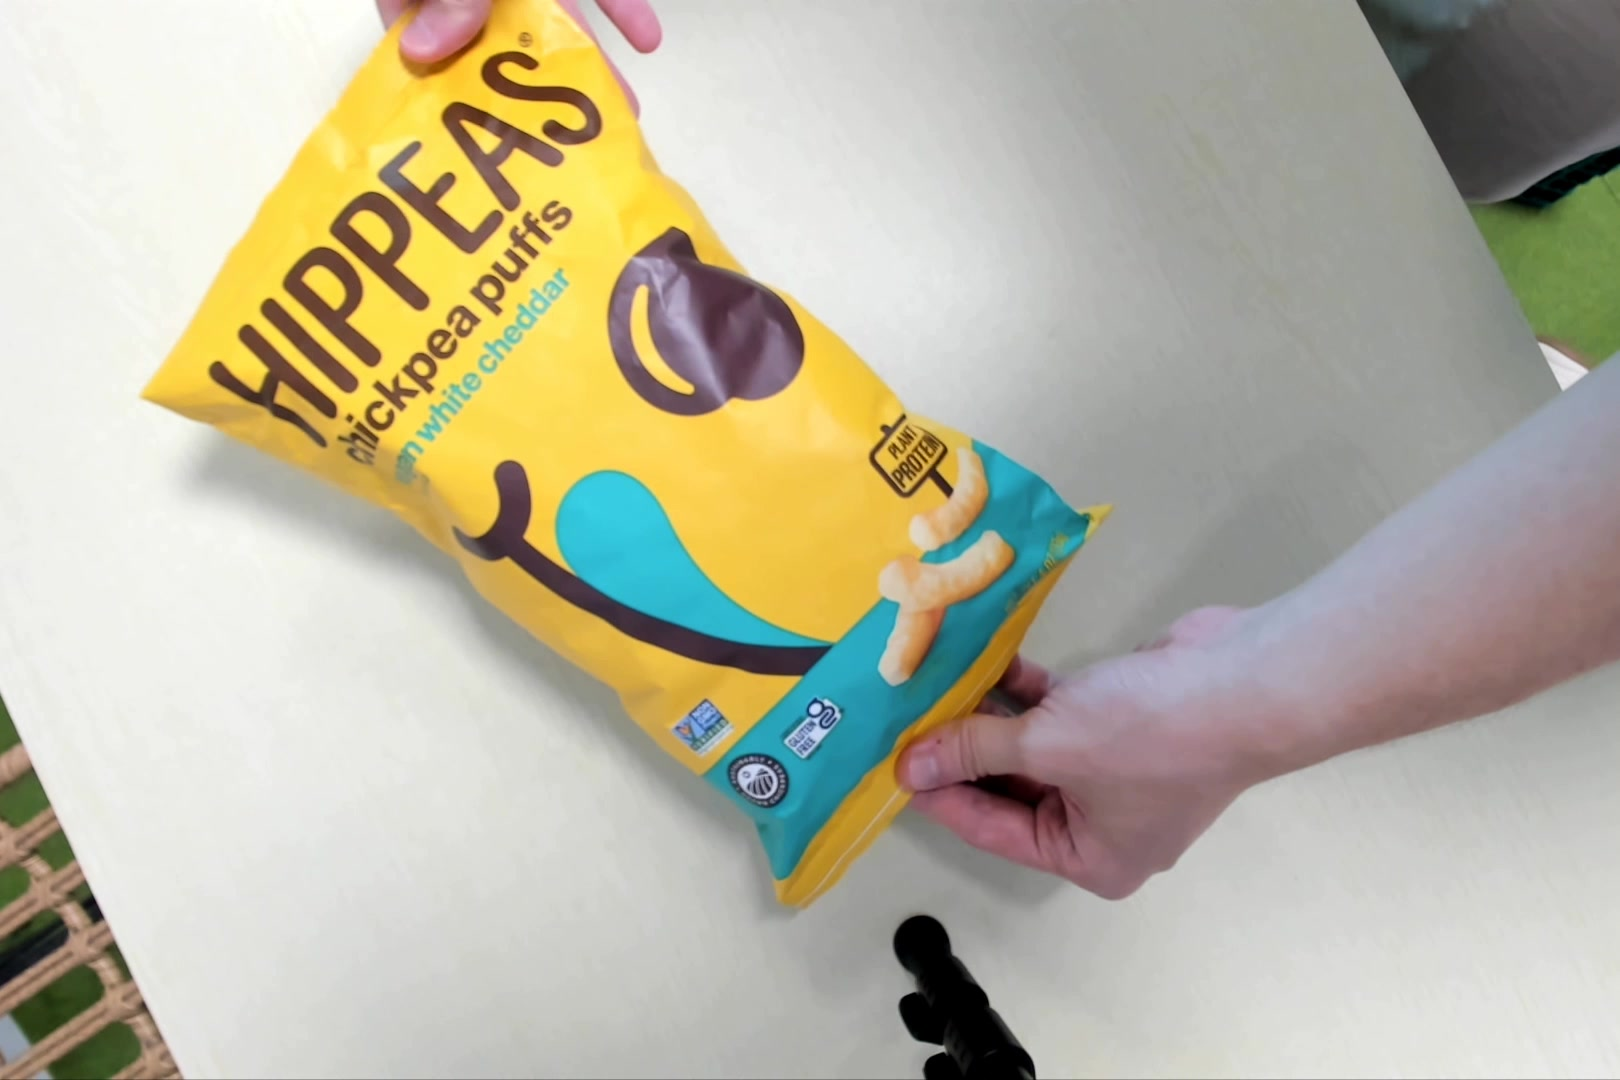PotatoChipsKeropok_100-199g_NonHalal_NonHealthy: (164, 20, 1097, 902)
